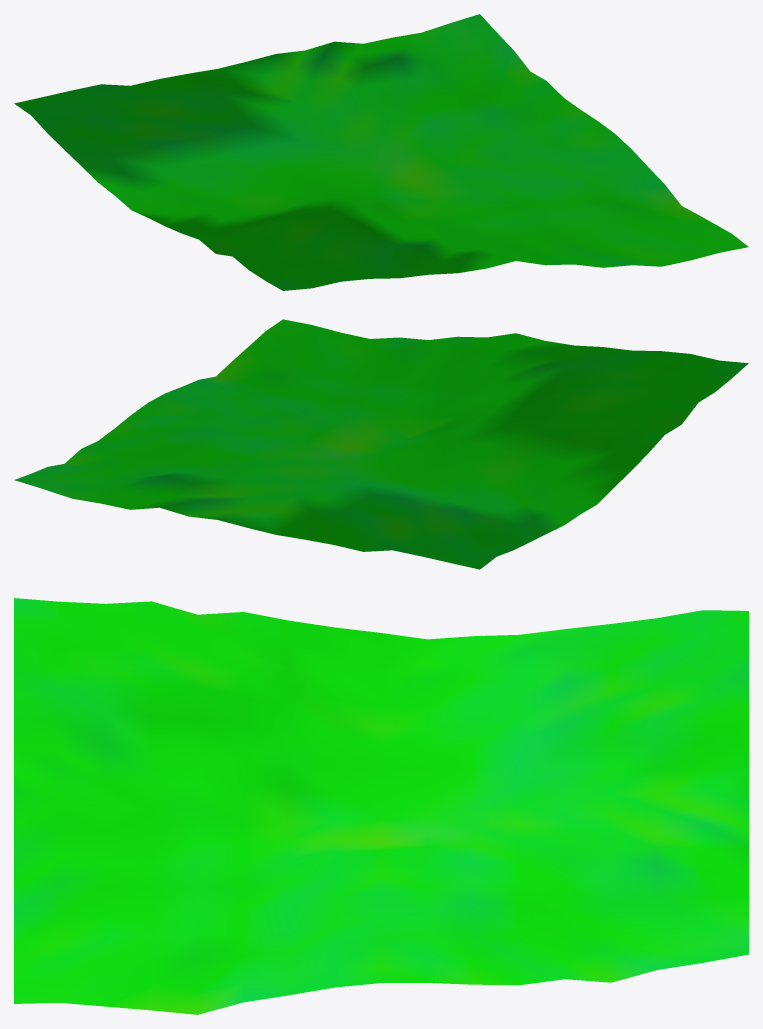
File: lkol3.dae
3 renders of one model, top to bottom at view 1: azimuth 30°, elevation 25°; view 2: azimuth 150°, elevation 25°; view 3: azimuth 270°, elevation 25°, orthographic. The views are drawn at different scales.
Visible parts, largest first — view 1: Terrain; view 2: Terrain; view 3: Terrain.
Boxes of the visible parts, box(x1,y1,x2,y2) form: Terrain: box(14, 14, 748, 290); Terrain: box(14, 319, 748, 569); Terrain: box(14, 598, 748, 1014).
Size of the model in its own units: 64 by 10.21 by 64.
